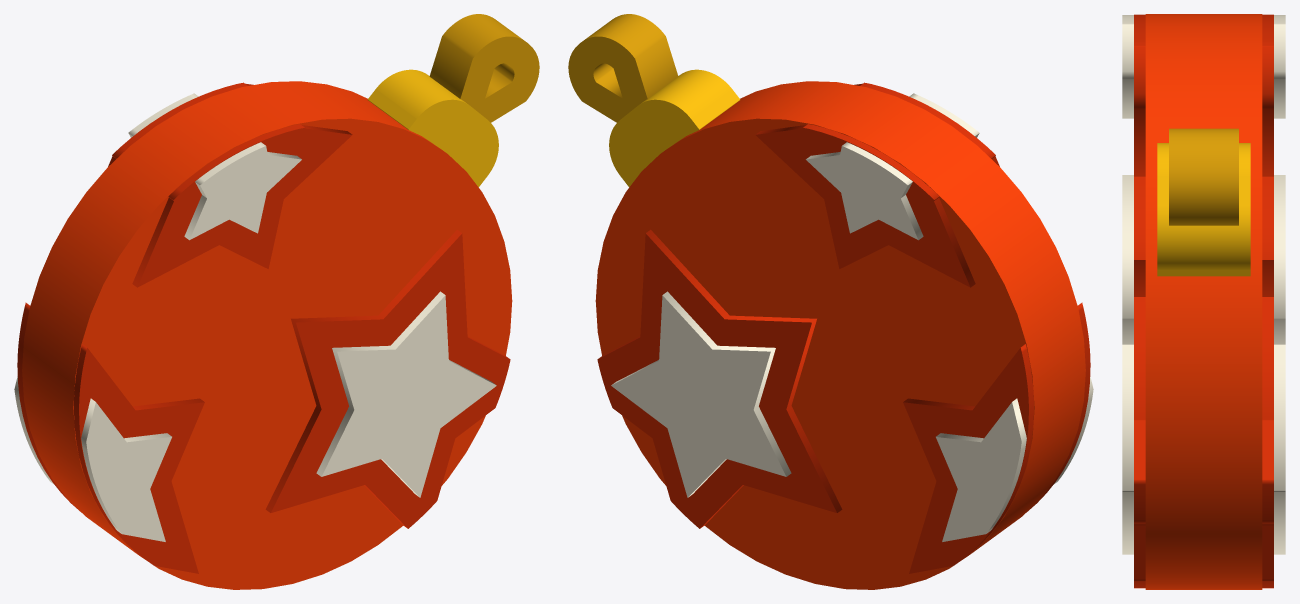
Rendered from ball.glb.
3 renders of one model, left to right at view 1: azimuth 30°, elevation 25°; view 2: azimuth 150°, elevation 25°; view 3: azimuth 270°, elevation 25°, orthographic. The views are drawn at different scales.
Visible parts, largest first — view 1: Curve.002, Curve.003, Curve.006, Curve.005, Curve.004, Curve, Curve.007, Curve.001, Curve.008; view 2: Curve.002, Curve.003, Curve.006, Curve.005, Curve.004, Curve, Curve.007, Curve.001, Curve.008; view 3: Curve.002, Curve.003, Curve, Curve.001, Curve.006, Curve.005, Curve.007, Curve.008, Curve.004.
Part boxes in pixels (bbox=[...]): Curve.002: bbox=[22, 81, 512, 589]; Curve.003: bbox=[265, 229, 510, 528]; Curve.006: bbox=[316, 291, 496, 497]; Curve.005: bbox=[108, 82, 352, 287]; Curve.004: bbox=[17, 302, 204, 573]; Curve: bbox=[429, 14, 539, 122]; Curve.007: bbox=[14, 377, 171, 541]; Curve.001: bbox=[367, 69, 498, 187]; Curve.008: bbox=[128, 93, 301, 240]; Curve.002: bbox=[595, 81, 1085, 589]; Curve.003: bbox=[597, 229, 842, 528]; Curve.006: bbox=[611, 291, 791, 497]; Curve.005: bbox=[755, 82, 999, 287]; Curve.004: bbox=[903, 302, 1090, 573]; Curve: bbox=[568, 14, 678, 122]; Curve.007: bbox=[936, 377, 1093, 541]; Curve.001: bbox=[609, 69, 740, 187]; Curve.008: bbox=[806, 93, 979, 240]; Curve.002: bbox=[1145, 14, 1262, 589]; Curve.003: bbox=[1134, 260, 1273, 588]; Curve: bbox=[1169, 128, 1238, 225]; Curve.001: bbox=[1157, 143, 1250, 276]; Curve.006: bbox=[1122, 318, 1285, 554]; Curve.005: bbox=[1134, 14, 1273, 176]; Curve.007: bbox=[1122, 175, 1285, 318]; Curve.008: bbox=[1122, 15, 1285, 118]; Curve.004: bbox=[1134, 176, 1273, 259].
Size of the model in its own units: 2.26 by 2.2 by 0.5909.
